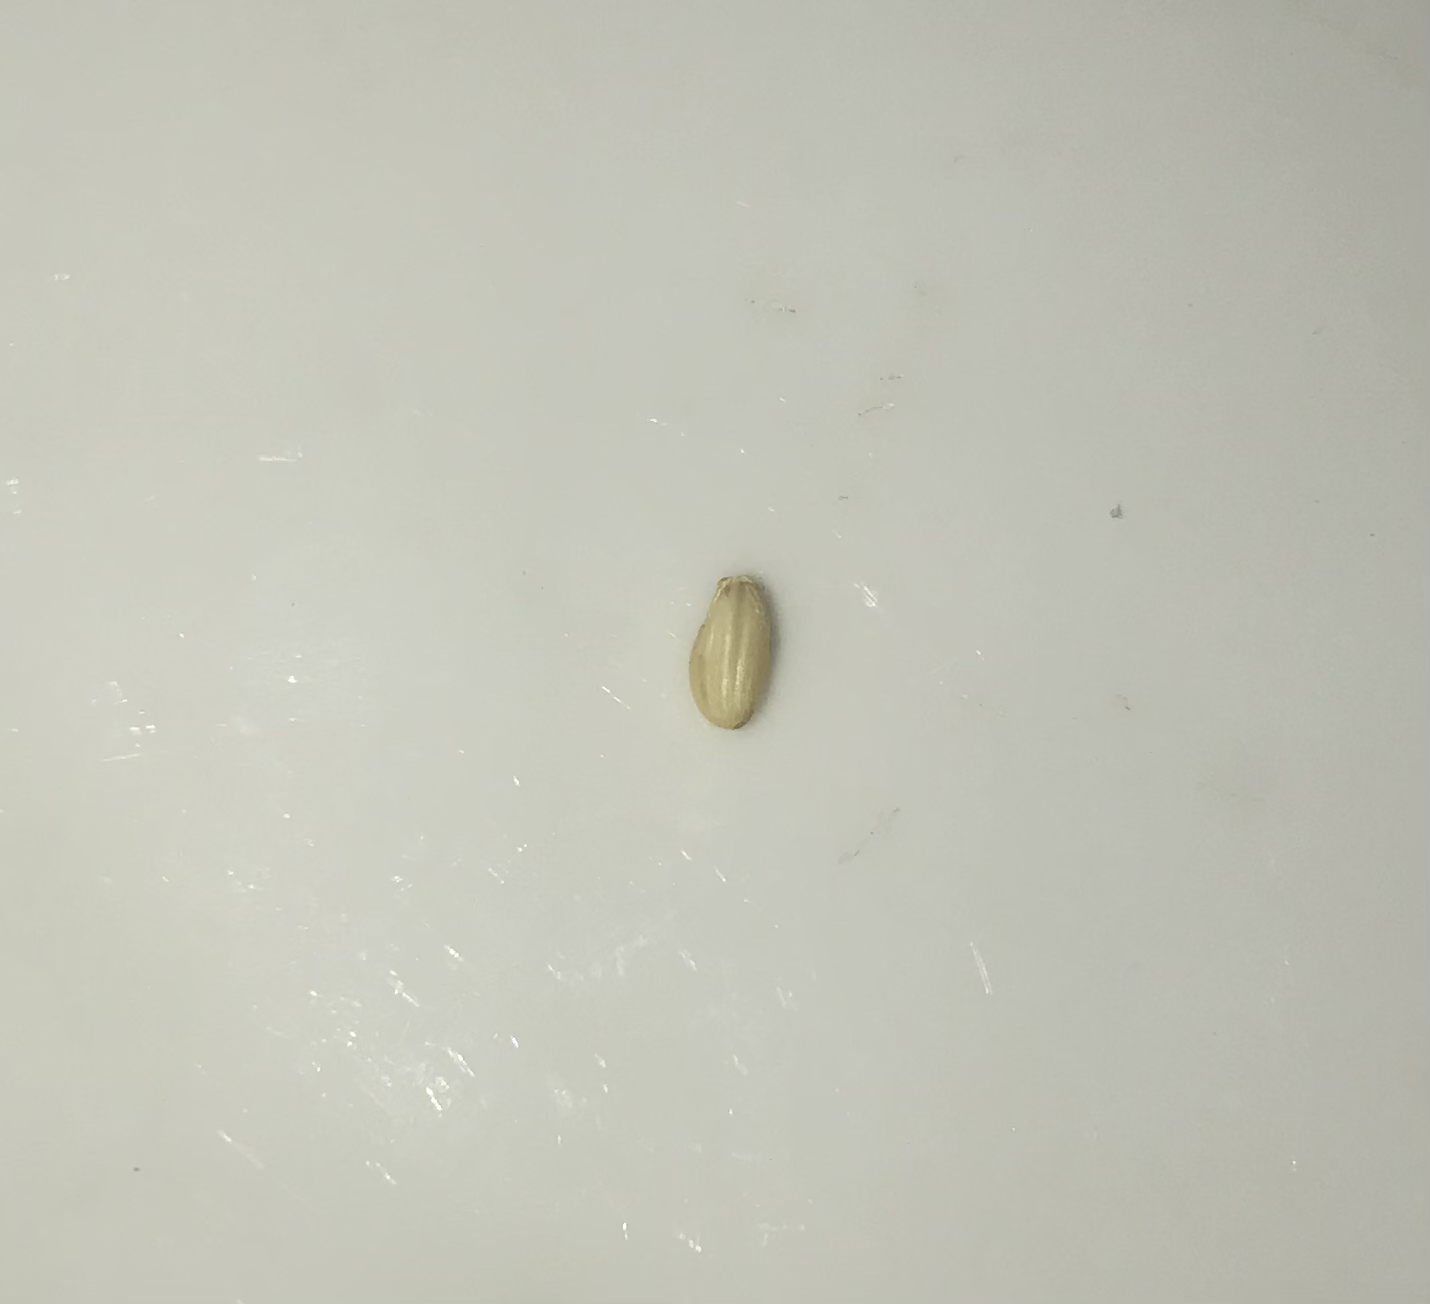Gao Lut Bac: (684, 565, 785, 745)
